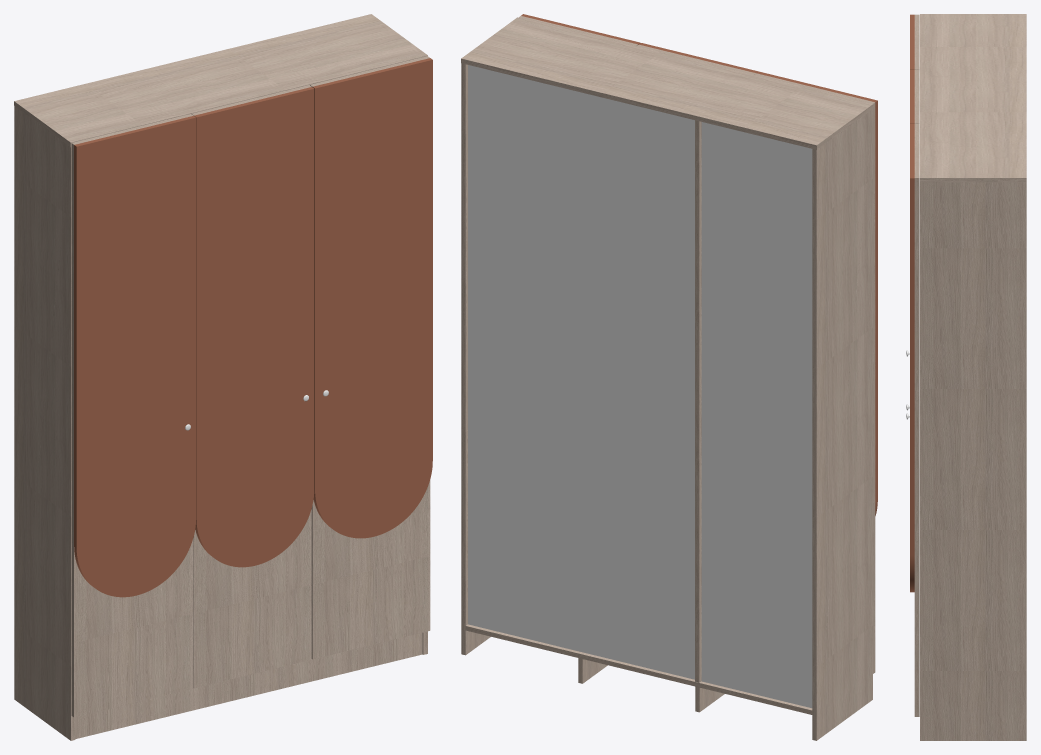
The model's file is girls-wardrobe-kids-closet.glb.
3 renders of one model, left to right at view 1: azimuth 30°, elevation 25°; view 2: azimuth 150°, elevation 25°; view 3: azimuth 270°, elevation 25°, orthographic. The views are drawn at different scales.
Parts seen in each view (by area): view 1: Object_42, Object_4; view 2: Object_10, Object_4, Object_42; view 3: Object_4, Object_42.
Boxes of the visible parts, bbox=[...] form: Object_42: bbox=[74, 58, 432, 597]; Object_4: bbox=[14, 14, 430, 740]; Object_10: bbox=[468, 65, 812, 708]; Object_4: bbox=[461, 16, 875, 740]; Object_42: bbox=[521, 14, 877, 515]; Object_4: bbox=[914, 14, 1026, 740]; Object_42: bbox=[910, 14, 914, 592].
Bounding box in the file's own units: 1.5 × 2.4 × 0.464.
Materials: 3 (1 with a texture image).
